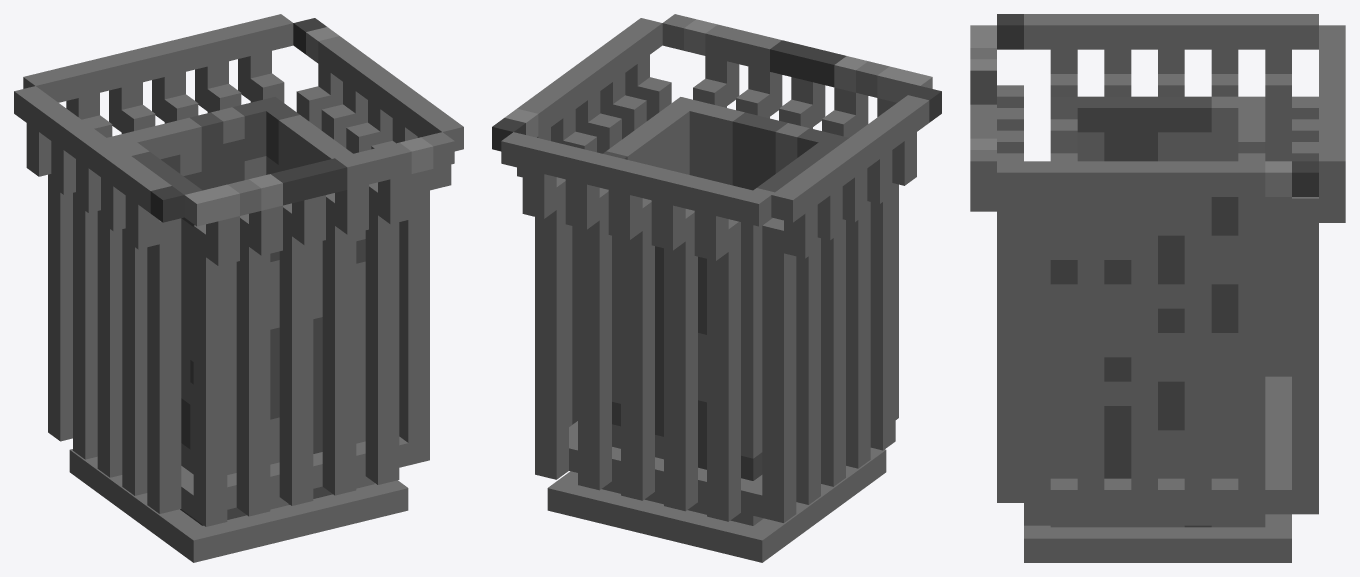
Rendered from others2-2.obj.
3 renders of one model, left to right at view 1: azimuth 30°, elevation 25°; view 2: azimuth 150°, elevation 25°; view 3: azimuth 270°, elevation 25°, orthographic. The views are drawn at different scales.
Size of the model in its own units: 1.4 by 1.7 by 1.4.
1 material, 1 textured.
